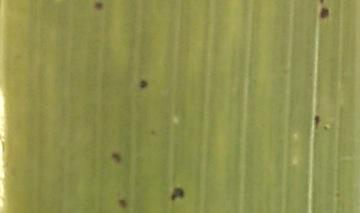tarspot: (169, 186, 185, 201), (110, 151, 121, 164), (117, 196, 128, 209), (318, 6, 329, 19), (312, 113, 320, 127), (92, 1, 102, 11), (139, 79, 148, 89), (148, 126, 156, 135), (333, 190, 342, 198), (321, 124, 329, 131), (318, 1, 325, 5)
